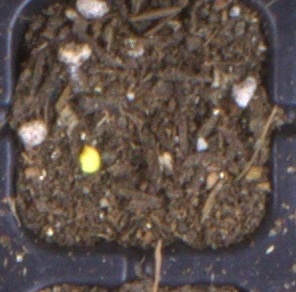chilli seed: (78, 143, 101, 174)
